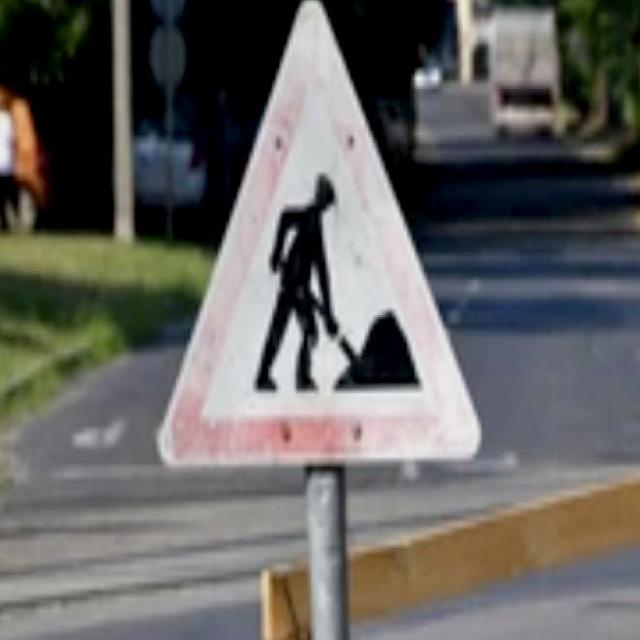damaged_missing_road_sign: (154, 0, 491, 461)
